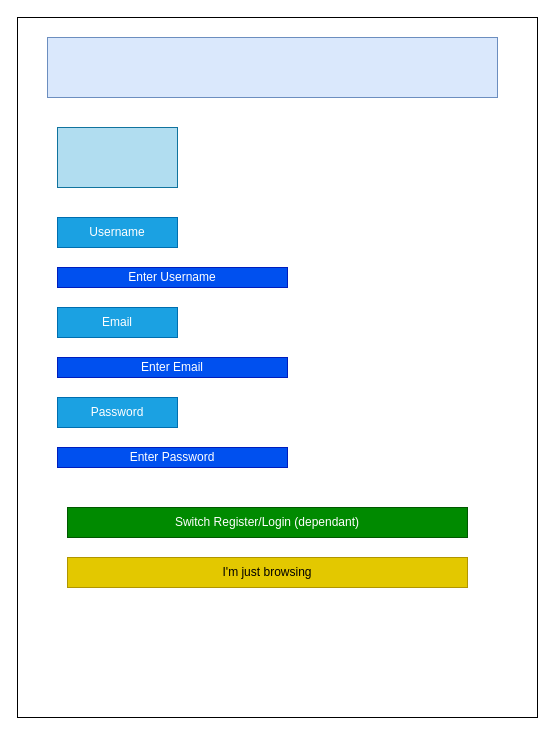
This 555x735 diagram has some shape labels left out. The centre of each missing label's shape, as x and y in pixels:
"Register as (admin/user)" goes at (x=117, y=157).
"Welcome" goes at (x=272, y=67).
